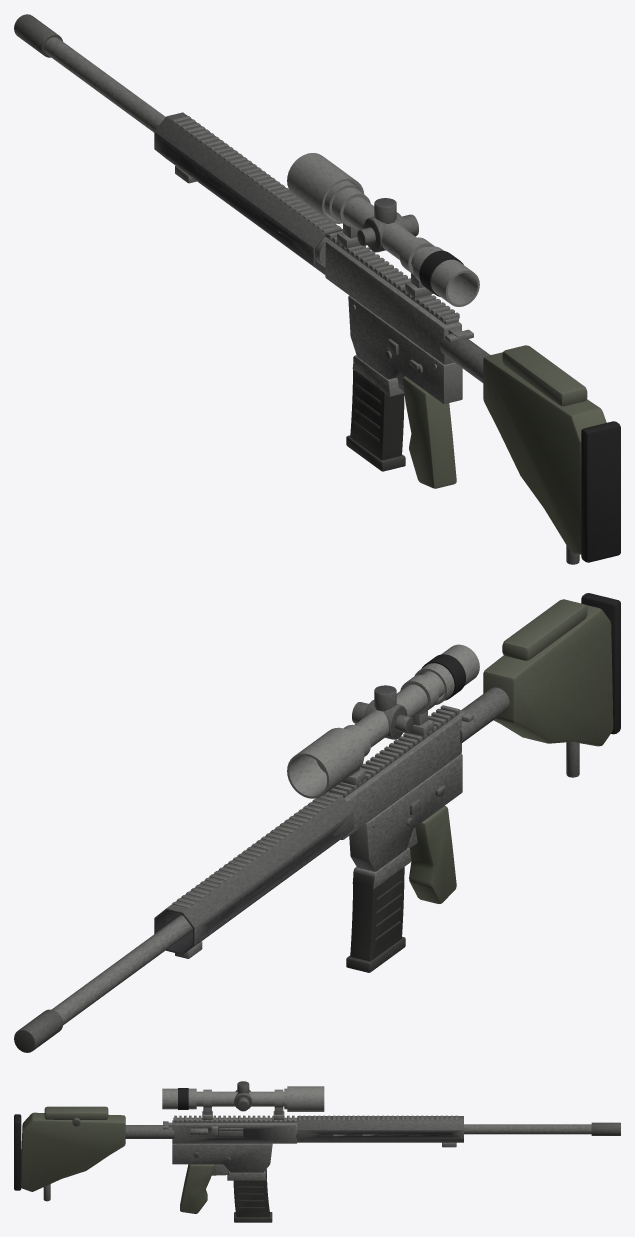
The model's file is SM_WeaponMarksman.fbx.
3 renders of one model, top to bottom at view 1: azimuth 30°, elevation 25°; view 2: azimuth 150°, elevation 25°; view 3: azimuth 270°, elevation 25°, orthographic. The views are drawn at different scales.
Visible parts, largest first — view 1: SM_WeaponMarksman, SM_WeaponMarksman_Mag; view 2: SM_WeaponMarksman, SM_WeaponMarksman_Mag; view 3: SM_WeaponMarksman, SM_WeaponMarksman_Mag.
Part boxes in pixels (x1,y1,x2,y2): SM_WeaponMarksman: [14, 14, 620, 564]; SM_WeaponMarksman_Mag: [346, 357, 405, 471]; SM_WeaponMarksman: [14, 593, 620, 1052]; SM_WeaponMarksman_Mag: [346, 867, 405, 972]; SM_WeaponMarksman: [14, 1081, 620, 1213]; SM_WeaponMarksman_Mag: [233, 1169, 272, 1222].
Bounding box in the file's own units: 0.065 × 0.307 × 1.24.
1 material, 1 textured.
